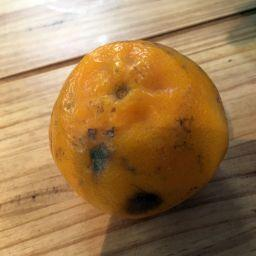Unripe: (49, 39, 228, 220)
